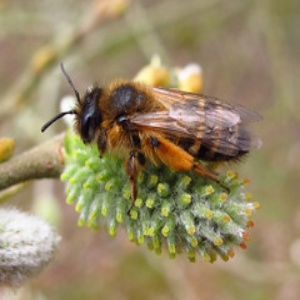bee: (40, 61, 272, 215)
